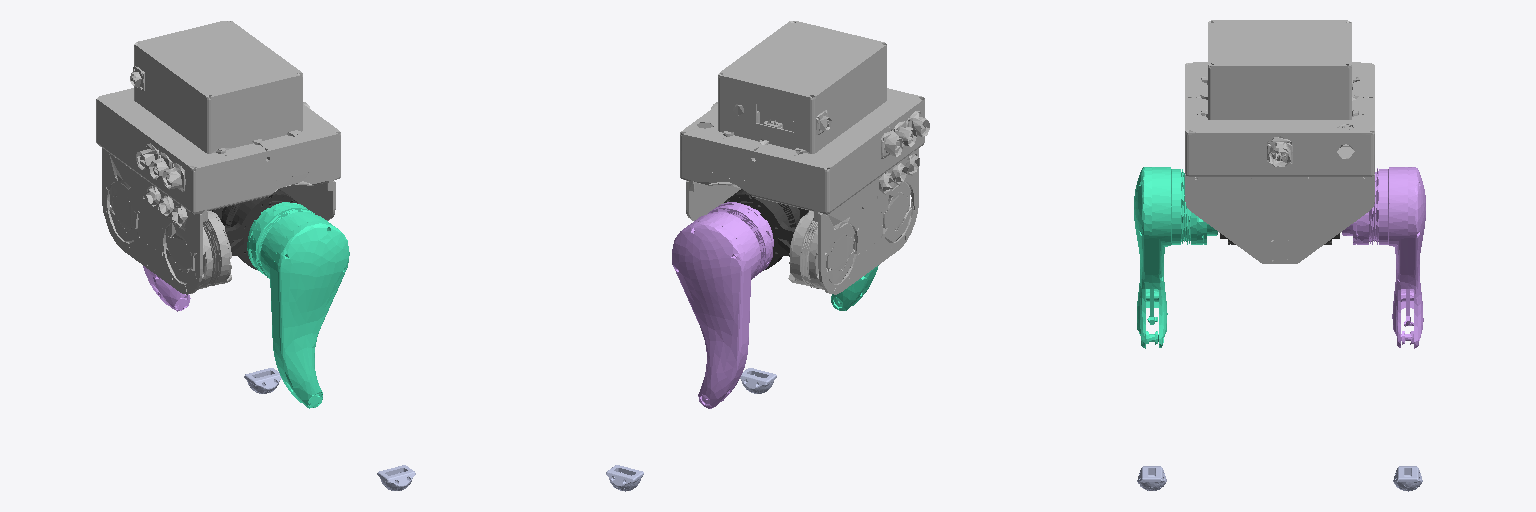
robot.urdf — agilepf:
<?xml version="1.0" encoding="utf-8"?>
<!-- This URDF was automatically created by SolidWorks to URDF Exporter! Originally created by Stephen Brawner (brawner@gmail.com) 
     Commit Version: 1.6.0-4-g7f85cfe  Build Version: 1.6.7995.38578
     For more information, please see http://wiki.ros.org/sw_urdf_exporter -->
<robot
  name="agilepf">
  <link
    name="base">
    <inertial>
      <origin
        xyz="-0.014432 -0.0030579 0.046047"
        rpy="0 0 0" />
      <mass
        value="8.9799" />
      <inertia
        ixx="0.030137"
        ixy="0.00015721"
        ixz="-9.1118E-07"
        iyy="0.022924"
        iyz="-3.1846E-06"
        izz="0.043479" />
    </inertial>
    <visual>
      <origin
        xyz="0 0 0"
        rpy="0 0 0" />
      <geometry>
        <mesh
          filename="./meshes/base.STL" />
      </geometry>
      <material
        name="">
        <color
          rgba="0.75294 0.75294 0.75294 1" />
      </material>
    </visual>
    <collision>
      <origin
        xyz="0 0 0.0345"
        rpy="0 0 0" />
      <geometry>
        <box
          size="0.23 0.262 0.069" />
      </geometry>
    </collision>
    <collision>
      <origin
        xyz="0 0 0.108"
        rpy="0 0 0" />
      <geometry>
        <box
          size="0.149 0.2 0.083" />
      </geometry>
    </collision>
    <collision>
      <origin
        xyz="-0.10223 -0.00072 -0.0705"
        rpy="0 0 0" />
      <geometry>
        <box size="0.004 0.13 0.136"/>
      </geometry>
    </collision>
    <collision>
      <origin
        xyz="-0.10223 -0.00072 -0.03606"
        rpy="0 0 0" />
      <geometry>
        <box size="0.004 0.262 0.06"/>
      </geometry>
    </collision>
    <collision>
      <origin
        xyz="0.10177 -0.00072 -0.0705"
        rpy="0 0 0" />
      <geometry>
        <box size="0.004 0.262 0.136"/>
      </geometry>
    </collision>
    <collision>
      <origin
        xyz="-0.10423 0.07572 -0.0825"
        rpy="0 1.57 0" />
      <geometry>
        <cylinder length="0.004" radius="0.056"/>
      </geometry>
    </collision>
    <collision>
      <origin
        xyz="-0.10423 -0.07572 -0.0825"
        rpy="0 1.57 0" />
      <geometry>
        <cylinder length="0.004" radius="0.056"/>
      </geometry>
    </collision>
    <collision>
      <origin
        xyz="-0.07573 0.07572 -0.0825"
        rpy="0 1.57 0" />
      <geometry>
        <cylinder radius="0.0525" length="0.053"/>
      </geometry>
    </collision>
    <collision>
      <origin
        xyz="-0.07573 -0.07572 -0.0825"
        rpy="0 1.57 0" />
      <geometry>
        <cylinder radius="0.0525" length="0.053"/>
      </geometry>
    </collision>
  </link>
  <link
    name="left_hip">
    <inertial>
      <origin
        xyz="0.08018 -0.023017 -0.0001447"
        rpy="0 0 0" />
      <mass
        value="0.9633" />
      <inertia
        ixx="0.0008221"
        ixy="-2.1563E-06"
        ixz="-1.2159E-06"
        iyy="0.0015091"
        iyz="-1.9309E-07"
        izz="0.00073823" />
    </inertial>
    <visual>
      <origin
        xyz="0 0 0"
        rpy="0 0 0" />
      <geometry>
        <mesh
          filename="./meshes/left_hip.STL" />
      </geometry>
      <material
        name="">
        <color
          rgba="0.3098 0.3098 0.3098 1" />
      </material>
    </visual>
    <collision>
      <origin
        xyz="0.08826 -0.0255 0"
        rpy="1.57 0 0" />
      <geometry>
        <cylinder radius="0.0525" length="0.053"/>
      </geometry>
    </collision>
  </link>
  <joint
    name="left_hip_joint"
    type="revolute">
    <origin
      xyz="-0.0508848858374956 0.0757230204412201 -0.0824999999999996"
      rpy="0 0 0" />
    <parent
      link="base" />
    <child
      link="left_hip" />
    <axis
      xyz="1 0 0" />
    <limit
      lower="-0.48"
      upper="0.48"
      effort="90"
      velocity="18" />
  </joint>
  <link
    name="left_thigh">
    <inertial>
      <origin
        xyz="-0.00254 -0.0014232 -0.019935"
        rpy="0 0 0" />
      <mass
        value="1.4731" />
      <inertia
        ixx="0.0027836"
        ixy="9.729E-07"
        ixz="-0.00011927"
        iyy="0.0038857"
        iyz="5.8648E-06"
        izz="0.0011983" />
    </inertial>
    <visual>
      <origin
        xyz="0 0 0"
        rpy="0 0 0" />
      <geometry>
        <mesh
          filename="./meshes/left_thigh.STL" />
      </geometry>
      <material
        name="">
        <color
          rgba="0.87451 0.68627 1 1" />
      </material>
    </visual>
    <collision>
      <origin
        xyz="0 0.00316 0"
        rpy="1.57 0 0" />
      <geometry>
        <cylinder length="0.09032" radius="0.0525" />
      </geometry>
    </collision>
    <collision>
      <origin
        xyz="-0.02 0.034 -0.08"
        rpy="0 -0.1 0" />
      <geometry>
        <box size="0.04 0.03981 0.25949" />
      </geometry>
    </collision>
  </link>
  <joint
    name="left_thigh_joint"
    type="revolute">
    <origin
      xyz="0.0882639516022643 0.0680000000000042 0"
      rpy="0 0 0" />
    <parent
      link="left_hip" />
    <child
      link="left_thigh" />
    <axis
      xyz="0 1 0" />
    <limit
      lower="-1.23"
      upper="2.73"
      effort="90"
      velocity="18" />
  </joint>
  <link
    name="left_calf">
    <inertial>
      <origin
        xyz="0.071716 -3.691E-08 -0.064562"
        rpy="0 0 0" />
      <mass
        value="0.16311" />
      <inertia
        ixx="0.00051797"
        ixy="5.2192E-10"
        ixz="0.00046588"
        iyy="0.00098076"
        iyz="-6.9606E-10"
        izz="0.00047283" />
    </inertial>
    <visual>
      <origin
        xyz="0 0 0"
        rpy="0 0 0" />
      <geometry>
        <mesh
          filename="./meshes/left_calf.STL" />
      </geometry>
      <material
        name="">
        <color
          rgba="0.3098 0.3098 0.3098 1" />
      </material>
    </visual>
    <collision>
       <origin
        xyz="0.07 0 -0.06"
        rpy="0 -0.75 0" />
      <geometry>
        <box size="0.03 0.022 0.2" />
      </geometry>
    </collision>
  </link>
  <joint
    name="left_calf_joint"
    type="revolute">
    <origin
      xyz="0 0.0339999999999982 -0.2"
      rpy="0 0 0" />
    <parent
      link="left_thigh" />
    <child
      link="left_calf" />
    <axis
      xyz="0 1 0" />
    <limit
      lower="-1.98"
      upper="0"
      effort="90"
      velocity="18" />
  </joint>
  <link
    name="left_foot">
    <inertial>
      <origin
        xyz="0.00024867 3.9287E-09 -0.011848"
        rpy="0 0 0" />
      <mass
        value="0.026651" />
      <inertia
        ixx="3.6298E-06"
        ixy="-3.6756E-11"
        ixz="-4.4064E-08"
        iyy="4.4015E-06"
        iyz="-1.1488E-12"
        izz="5.7283E-06" />
    </inertial>
    <visual>
      <origin
        xyz="0 0 0"
        rpy="0 0 0" />
      <geometry>
        <mesh
          filename="./meshes/left_foot.STL" />
      </geometry>
      <material
        name="">
        <color
          rgba="0.79608 0.82353 0.93725 1" />
      </material>
    </visual>
    <collision>
      <origin
        xyz="0 0 -0.005"
        rpy="0 0 0" />
      <geometry>
        <sphere radius="0.022" />
      </geometry>
    </collision>
  </link>
  <joint
    name="left_foot_joint"
    type="fixed">
    <origin
      xyz="0.133312387074541 0 -0.143176031155283"
      rpy="0 0 0" />
    <parent
      link="left_calf" />
    <child
      link="left_foot" />
    <axis
      xyz="0 0 0" />
  </joint>
  <link
    name="right_hip">
    <inertial>
      <origin
        xyz="0.080175 0.023011 4.6722E-05"
        rpy="0 0 0" />
      <mass
        value="0.96352" />
      <inertia
        ixx="0.00082237"
        ixy="2.161E-06"
        ixz="-1.7964E-06"
        iyy="0.0015096"
        iyz="-5.6306E-08"
        izz="0.00073844" />
    </inertial>
    <visual>
      <origin
        xyz="0 0 0"
        rpy="0 0 0" />
      <geometry>
        <mesh
          filename="./meshes/right_hip.STL" />
      </geometry>
      <material
        name="">
        <color
          rgba="0.3098 0.3098 0.3098 1" />
      </material>
    </visual>
    <collision>
      <origin
        xyz="0.08826 0.0255 0"
        rpy="1.57 0 0" />
      <geometry>
        <cylinder radius="0.0525" length="0.053"/>
      </geometry>
    </collision>
  </link>
  <joint
    name="right_hip_joint"
    type="revolute">
    <origin
      xyz="-0.050885 -0.074277 -0.0825"
      rpy="0 0 0" />
    <parent
      link="base" />
    <child
      link="right_hip" />
    <axis
      xyz="1 0 0" />
    <limit
      lower="-0.48"
      upper="0.48"
      effort="90"
      velocity="18" />
  </joint>
  <link
    name="right_thigh">
    <inertial>
      <origin
        xyz="-0.0023521 0.0013403 -0.0195"
        rpy="0 0 0" />
      <mass
        value="1.4784" />
      <inertia
        ixx="0.0028485"
        ixy="8.1509E-07"
        ixz="-0.00014776"
        iyy="0.0038912"
        iyz="-6.6763E-06"
        izz="0.0011389" />
    </inertial>
    <visual>
      <origin
        xyz="0 0 0"
        rpy="0 0 0" />
      <geometry>
        <mesh
          filename="./meshes/right_thigh.STL" />
      </geometry>
      <material
        name="">
        <color
          rgba="0.37255 1 0.81176 1" />
      </material>
    </visual>
    <collision>
      <origin
        xyz="0 -0.00316 0"
        rpy="1.57 0 0" />
      <geometry>
        <cylinder length="0.09032" radius="0.0525" />
      </geometry>
    </collision>
    <collision>
      <origin
        xyz="-0.02 -0.034 -0.08"
        rpy="0 -0.1 0" />
      <geometry>
        <box size="0.04 0.03981 0.25949" />
      </geometry>
    </collision>
  </link>
  <joint
    name="right_thigh_joint"
    type="revolute">
    <origin
      xyz="0.088264 -0.068 0"
      rpy="0 0 0" />
    <parent
      link="right_hip" />
    <child
      link="right_thigh" />
    <axis
      xyz="0 1 0" />
    <limit
      lower="-1.23"
      upper="2.73"
      effort="90"
      velocity="18" />
  </joint>
  <link
    name="right_calf">
    <inertial>
      <origin
        xyz="0.071716 -3.6905E-08 -0.064562"
        rpy="0 0 0" />
      <mass
        value="0.16311" />
      <inertia
        ixx="0.00051797"
        ixy="5.2192E-10"
        ixz="0.00046588"
        iyy="0.00098076"
        iyz="-6.9606E-10"
        izz="0.00047283" />
    </inertial>
    <visual>
      <origin
        xyz="0 0 0"
        rpy="0 0 0" />
      <geometry>
        <mesh
          filename="./meshes/right_calf.STL" />
      </geometry>
      <material
        name="">
        <color
          rgba="0.3098 0.3098 0.3098 1" />
      </material>
    </visual>
    <collision>
      <origin
        xyz="0.07 0 -0.06"
        rpy="0 -0.75 0" />
      <geometry>
        <box size="0.03 0.022 0.2" />
      </geometry>
    </collision>
  </link>
  <joint
    name="right_calf_joint"
    type="revolute">
    <origin
      xyz="0 -0.0340000000047558 -0.20000001888152"
      rpy="0 0 0" />
    <parent
      link="right_thigh" />
    <child
      link="right_calf" />
    <axis
      xyz="0 1 0" />
    <limit
      lower="-1.98"
      upper="0"
      effort="90"
      velocity="18" />
  </joint>
  <link
    name="right_foot">
    <inertial>
      <origin
        xyz="0.00024867 3.8242E-09 -0.011848"
        rpy="0 0 0" />
      <mass
        value="0.026651" />
      <inertia
        ixx="3.6298E-06"
        ixy="-3.6787E-11"
        ixz="-4.4064E-08"
        iyy="4.4015E-06"
        iyz="-1.1697E-12"
        izz="5.7283E-06" />
    </inertial>
    <visual>
      <origin
        xyz="0 0 0"
        rpy="0 0 0" />
      <geometry>
        <mesh
          filename="./meshes/right_foot.STL" />
      </geometry>
      <material
        name="">
        <color
          rgba="0.79608 0.82353 0.93725 1" />
      </material>
    </visual>
    <collision>
      <origin
        xyz="0.0 0 -0.005"
        rpy="0 0 0" />
      <geometry>
        <sphere radius="0.022" />
      </geometry>
    </collision>
  </link>
  <joint
    name="right_foot_joint"
    type="fixed">
    <origin
      xyz="0.133312387074541 0 -0.143176031155283"
      rpy="0 0 0" />
    <parent
      link="right_calf" />
    <child
      link="right_foot" />
    <axis
      xyz="0 0 0" />
  </joint>
</robot>

--- Render facts (derived) ---
The picture shows the robot from 3 angles, left to right: view 1: azimuth 30°, elevation 25°; view 2: azimuth 150°, elevation 25°; view 3: azimuth 270°, elevation 25°; orthographic projection.
Robot: agilepf — 9 links, 8 joints (6 revolute, 2 fixed); root link base; default pose: every joint at zero.
Links seen in each view (by area): view 1: base, right_thigh, right_hip, left_thigh, right_foot, left_foot; view 2: base, left_thigh, left_hip, right_thigh, left_foot, right_foot; view 3: base, left_thigh, right_thigh, left_foot, right_foot.
Link boxes in pixels (x1,y1,x2,y2): base: (96,21,340,294); right_thigh: (247,202,349,408); right_hip: (221,189,297,269); left_thigh: (143,266,190,311); right_foot: (377,465,415,490); left_foot: (244,368,281,393); base: (680,21,929,294); left_thigh: (672,202,773,408); left_hip: (724,189,799,270); right_thigh: (831,265,878,310); left_foot: (606,465,643,491); right_foot: (740,368,776,393); base: (1185,20,1374,263); left_thigh: (1342,167,1425,348); right_thigh: (1134,167,1217,348); left_foot: (1393,466,1422,491); right_foot: (1137,466,1166,490).
Size in the robot's own frame: 0.3276 by 0.4047 by 0.6021 metres.
7 mesh visuals loaded from 9 distinct referenced files (7 binary STL); not drawn: 2 (reference not matched to a file when rendering).
